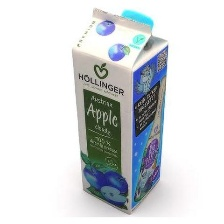carton: (67, 5, 179, 215)
